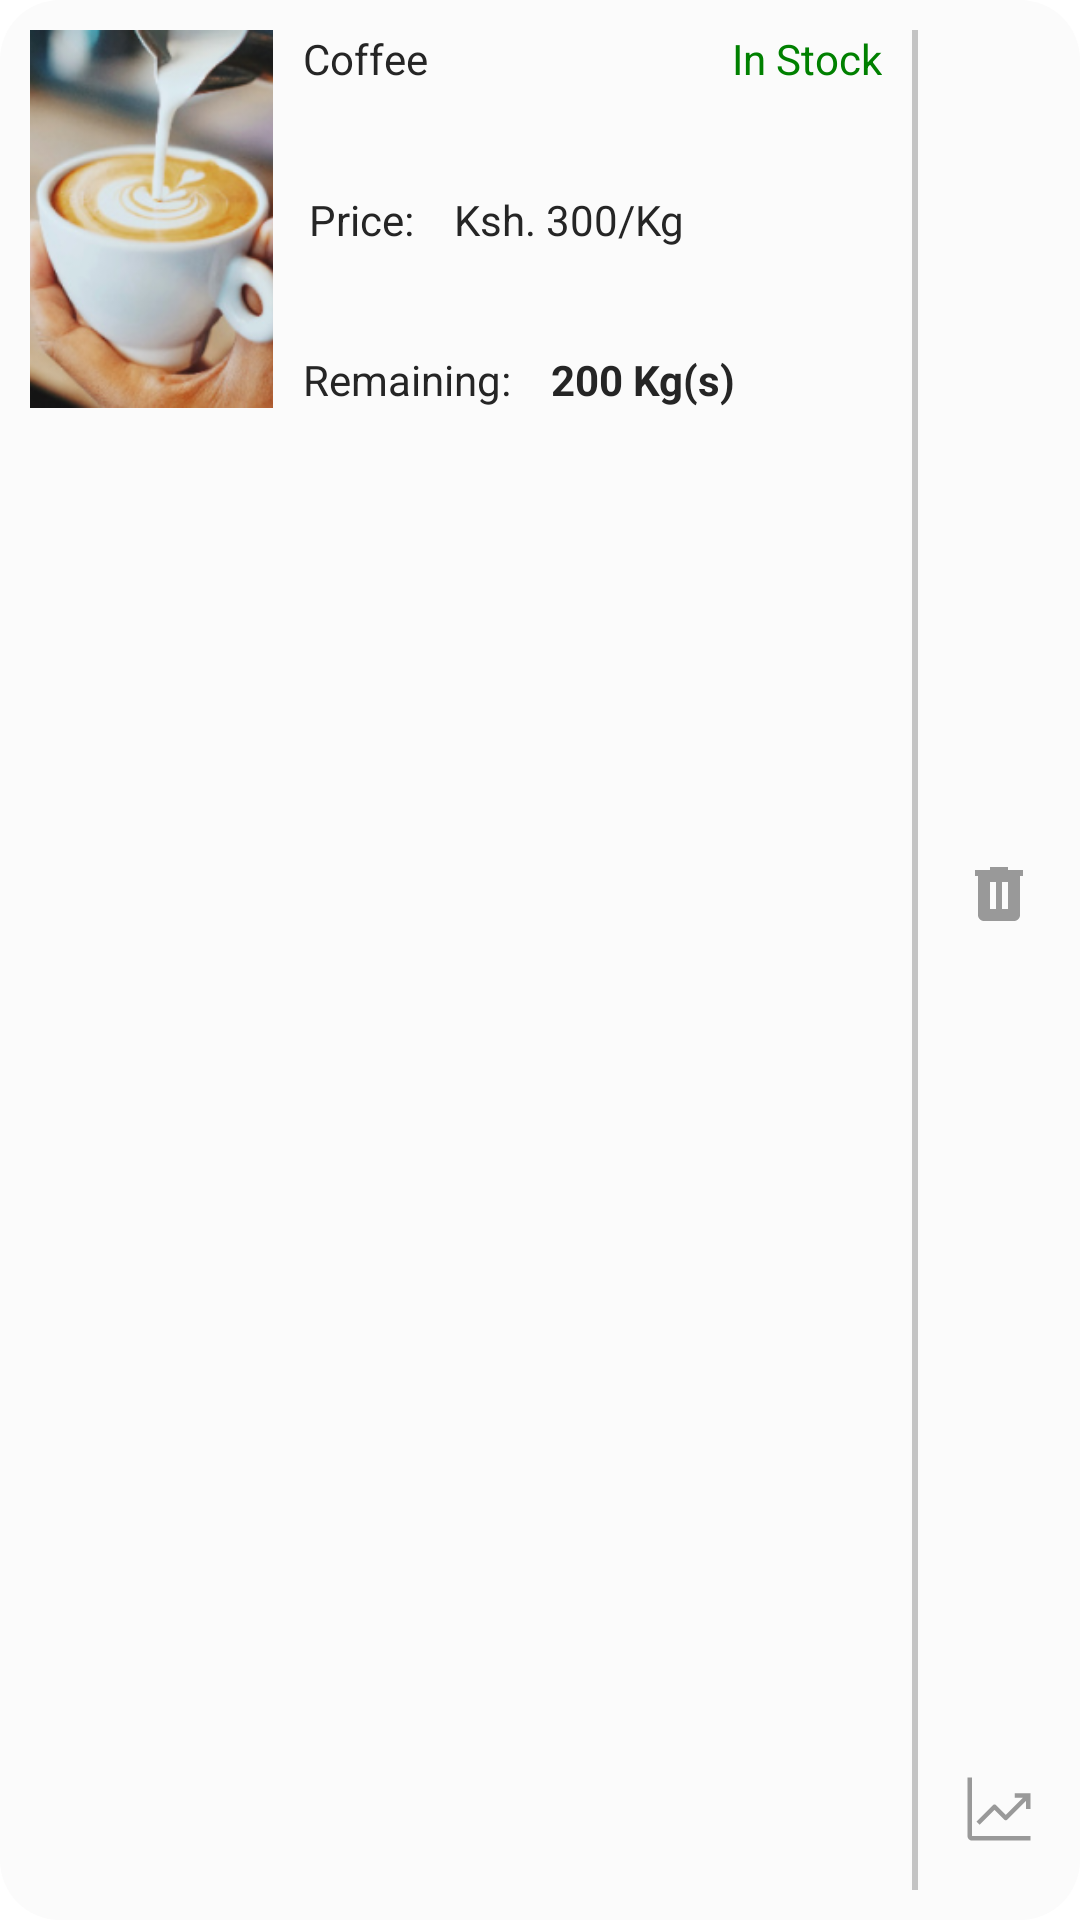

Icons on this 1080*1920 Android screen, each with the point to tap as (x=x, y=y):
analytics: (x=999, y=1809)
delete: (x=999, y=894)
